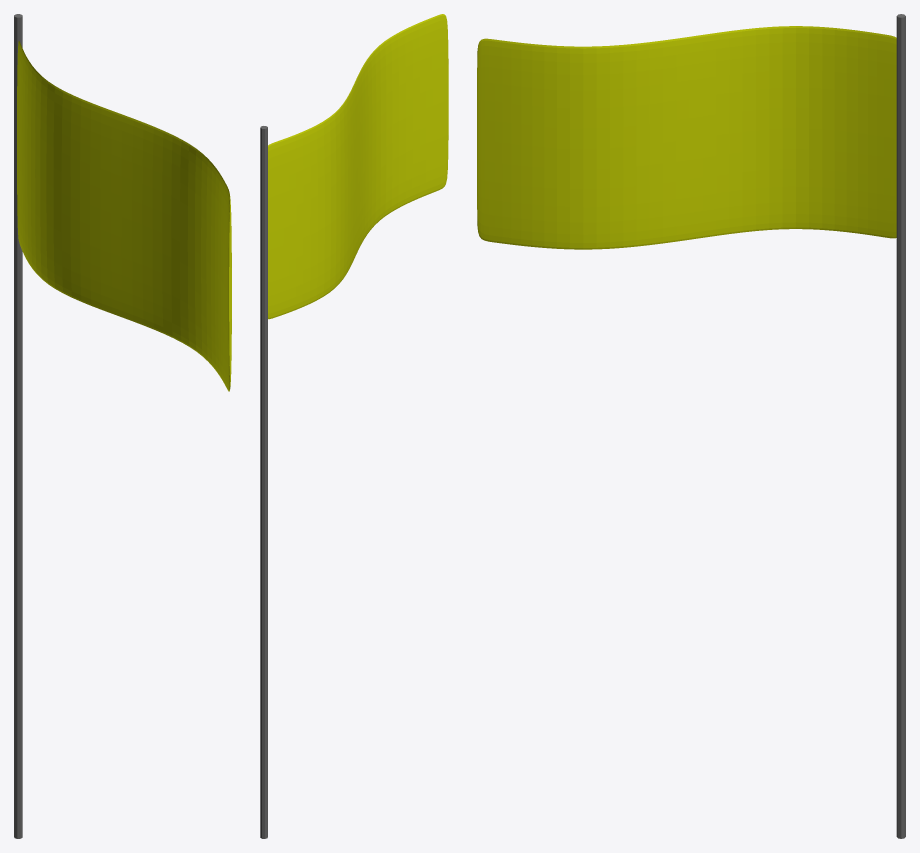
File: Flag.fbx
3 renders of one model, left to right at view 1: azimuth 30°, elevation 25°; view 2: azimuth 150°, elevation 25°; view 3: azimuth 270°, elevation 25°, orthographic. The views are drawn at different scales.
Visible parts, largest first — view 1: Cube, Cylinder; view 2: Cube, Cylinder; view 3: Cube, Cylinder.
Boxes of the visible parts, x1,y1,x2,y2 form: Cube: [17, 41, 231, 391]; Cylinder: [14, 14, 22, 838]; Cube: [268, 14, 448, 319]; Cylinder: [260, 126, 267, 838]; Cube: [477, 26, 896, 249]; Cylinder: [896, 14, 905, 838].
Bounding box in the file's own units: 23.35 × 400 × 189.
